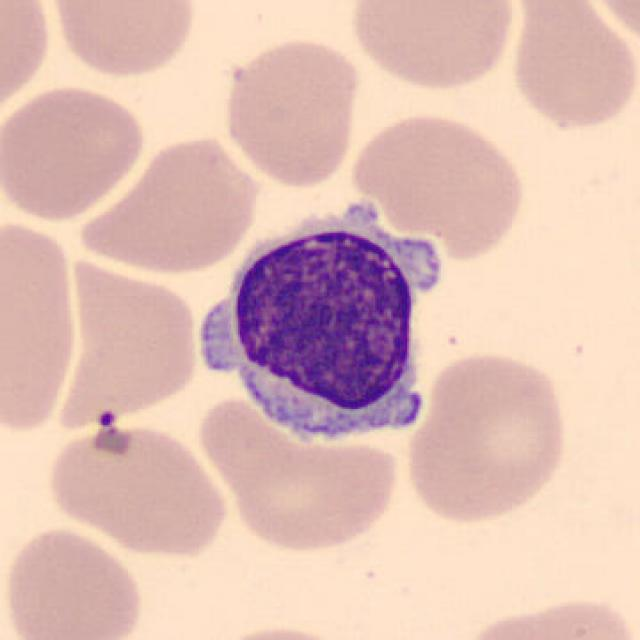Lymphocyte: (185, 196, 451, 455)
RBC: (199, 402, 407, 559), (400, 345, 574, 529), (346, 106, 530, 261), (75, 130, 265, 277), (53, 247, 201, 430), (43, 418, 231, 559), (218, 34, 364, 190), (2, 81, 149, 224), (0, 210, 84, 439), (505, 0, 638, 134), (0, 523, 149, 640), (345, 0, 519, 93), (44, 0, 201, 81), (455, 590, 638, 640), (0, 0, 55, 122), (200, 620, 366, 640), (579, 0, 640, 49)
